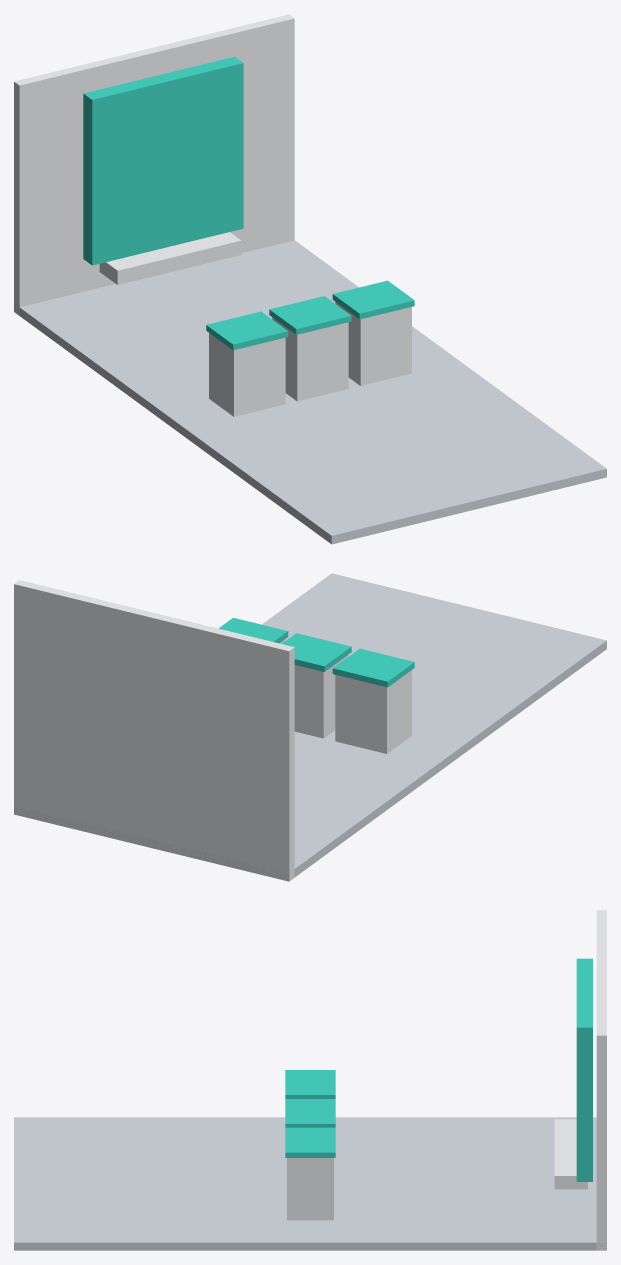
3 views of the same model, one above another, from view 1: azimuth 30°, elevation 25°; view 2: azimuth 150°, elevation 25°; view 3: azimuth 270°, elevation 25° (orthographic). The views are drawn at different scales.
Parts seen in each view (by area): view 1: Exhibition Booth Concept; view 2: Exhibition Booth Concept; view 3: Exhibition Booth Concept.
Part boxes in pixels (x1,y1,x2,y2): Exhibition Booth Concept: (14,14,606,544); Exhibition Booth Concept: (14,573,606,881); Exhibition Booth Concept: (14,910,606,1250).
Size of the model in its own units: 4 by 3.2 by 8.
